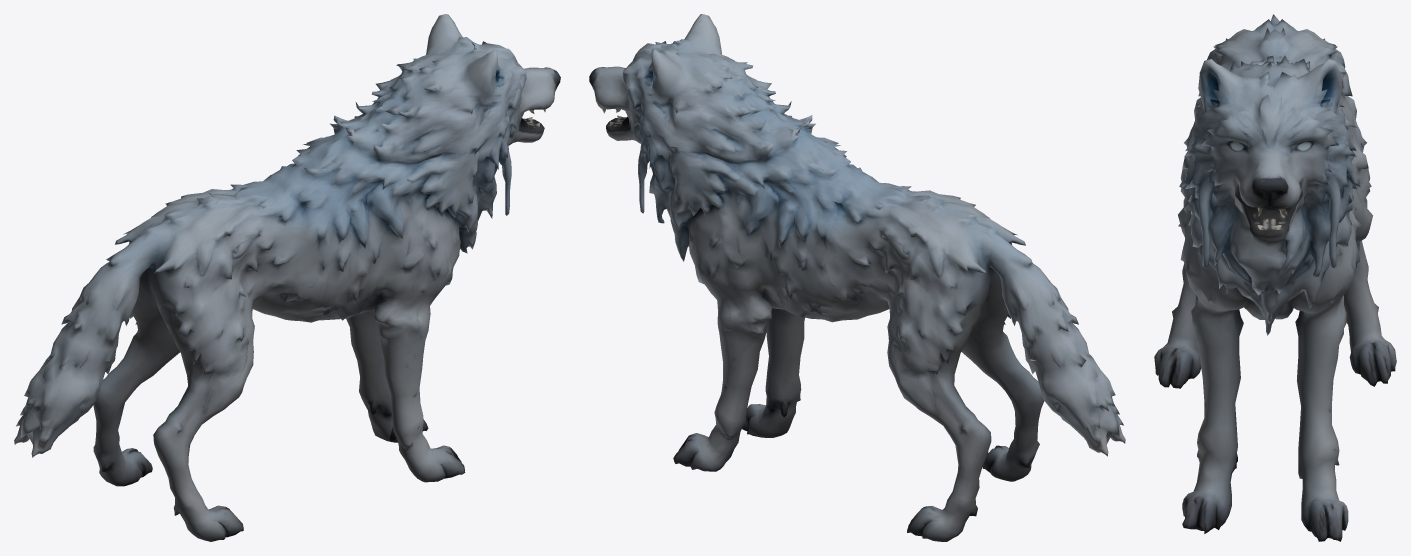
The picture shows the model from 3 angles, left to right: view 1: azimuth 30°, elevation 25°; view 2: azimuth 150°, elevation 25°; view 3: azimuth 270°, elevation 25°; orthographic projection. The views are drawn at different scales.
Visible parts, largest first — view 1: tripo_node_cea91115-0f9d-475c-acbb-5af56e7eeb38; view 2: tripo_node_cea91115-0f9d-475c-acbb-5af56e7eeb38; view 3: tripo_node_cea91115-0f9d-475c-acbb-5af56e7eeb38.
Part boxes in pixels (x1=…): tripo_node_cea91115-0f9d-475c-acbb-5af56e7eeb38: x1=14, y1=14, x2=560, y2=541; tripo_node_cea91115-0f9d-475c-acbb-5af56e7eeb38: x1=589, y1=14, x2=1125, y2=541; tripo_node_cea91115-0f9d-475c-acbb-5af56e7eeb38: x1=1154, y1=14, x2=1396, y2=541.
Size of the model in its own units: 1 by 0.7339 by 0.3229.
Materials: 1 (1 with a texture image).
